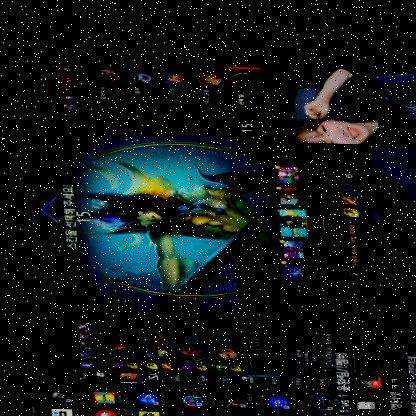streamer: (269, 65, 416, 144)
